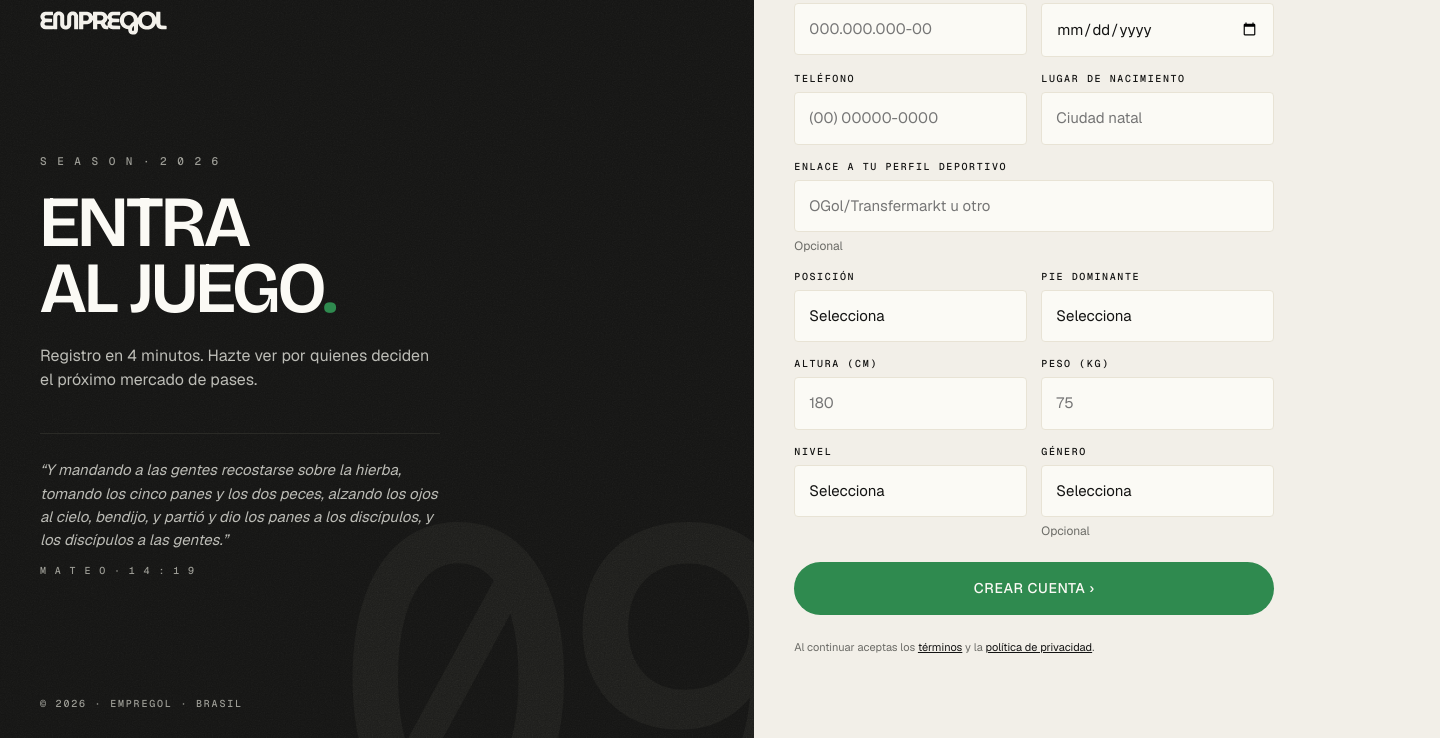
Test: Validação no idioma escolhido › mostra os erros do cadastro em espanhol
(page scrolled)
Click the button "Crear cuenta ›": (1034, 589) [794,562,1274,615]
(page scrolled)
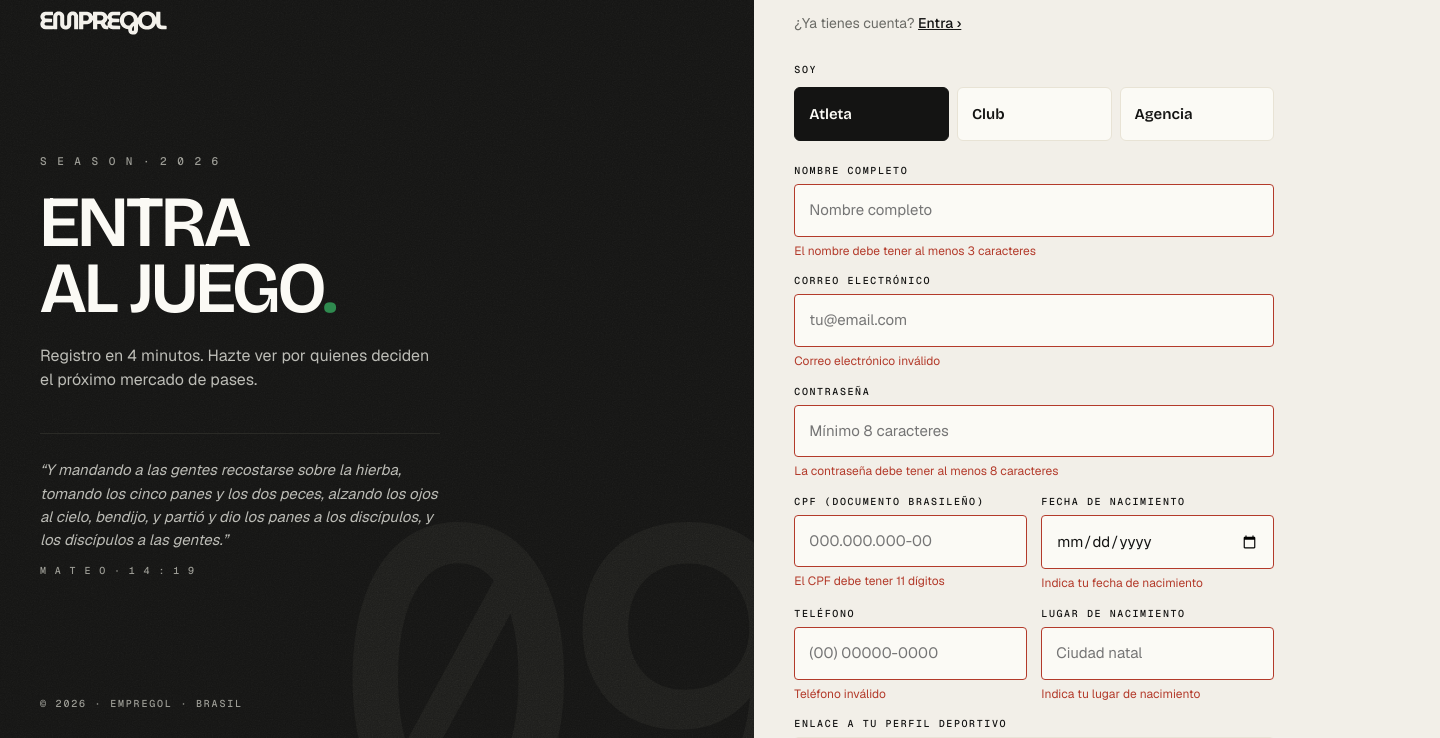
Expected: the text "El nombre debe tener al menos 3 caracteres" is shown, [794,242,1036,258]
Expected: the text "Correo electrónico inválido" is shown, [794,353,940,369]
